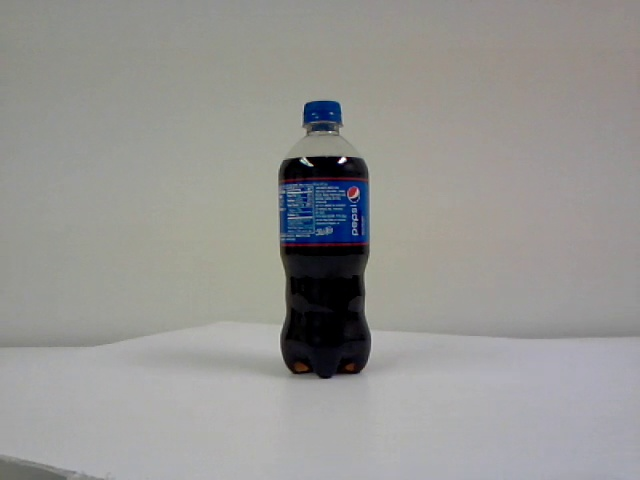botolplastik: (280, 103, 370, 378)
